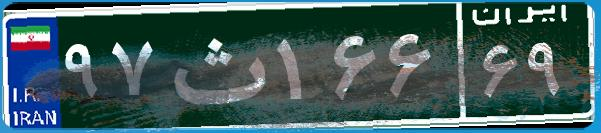1: (273, 28, 330, 110)
6: (385, 28, 445, 110), (330, 28, 385, 110), (475, 38, 525, 113)
7: (110, 28, 158, 105)
9: (57, 26, 110, 107), (525, 38, 570, 115)
ث: (158, 15, 273, 115)
